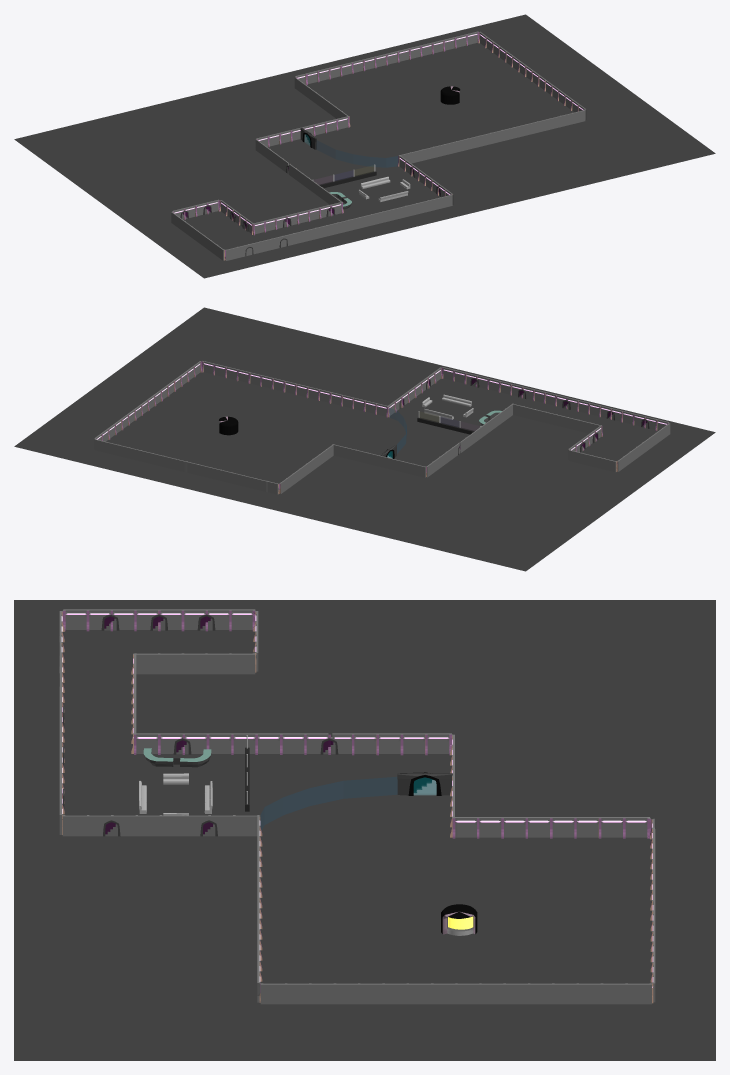
The model's file is first.fbx.
3 views of the same model, one above another, from view 1: azimuth 30°, elevation 25°; view 2: azimuth 150°, elevation 25°; view 3: azimuth 270°, elevation 25° (orthographic). The views are drawn at different scales.
Parts seen in each view (by area): view 1: pPlane1, wallsolidtest:wallglass, lobbydivide:pCylinder5; view 2: pPlane1, wallsolidtest:wallglass, lobbydivide:pCylinder5; view 3: pPlane1, wallsolidtest:wallglass, serverdoorclosed:polySurface7, main_server:pCylinder3.
Boxes of the visible parts, x1,y1,x2,y2 form: pPlane1: [14, 14, 715, 278]; wallsolidtest:wallglass: [171, 31, 586, 260]; lobbydivide:pCylinder5: [312, 164, 376, 188]; pPlane1: [14, 307, 715, 571]; wallsolidtest:wallglass: [94, 361, 670, 494]; lobbydivide:pCylinder5: [417, 411, 481, 434]; pPlane1: [14, 600, 715, 1060]; wallsolidtest:wallglass: [59, 609, 655, 1004]; serverdoorclosed:polySurface7: [397, 772, 452, 795]; main_server:pCylinder3: [441, 904, 477, 935].
Size of the model in its own units: 500 by 11.55 by 322.
